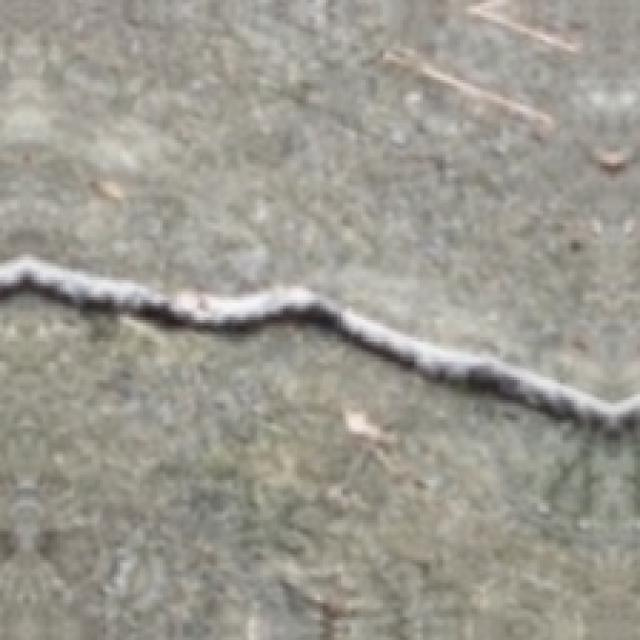reticulated python: (0, 254, 637, 429)
